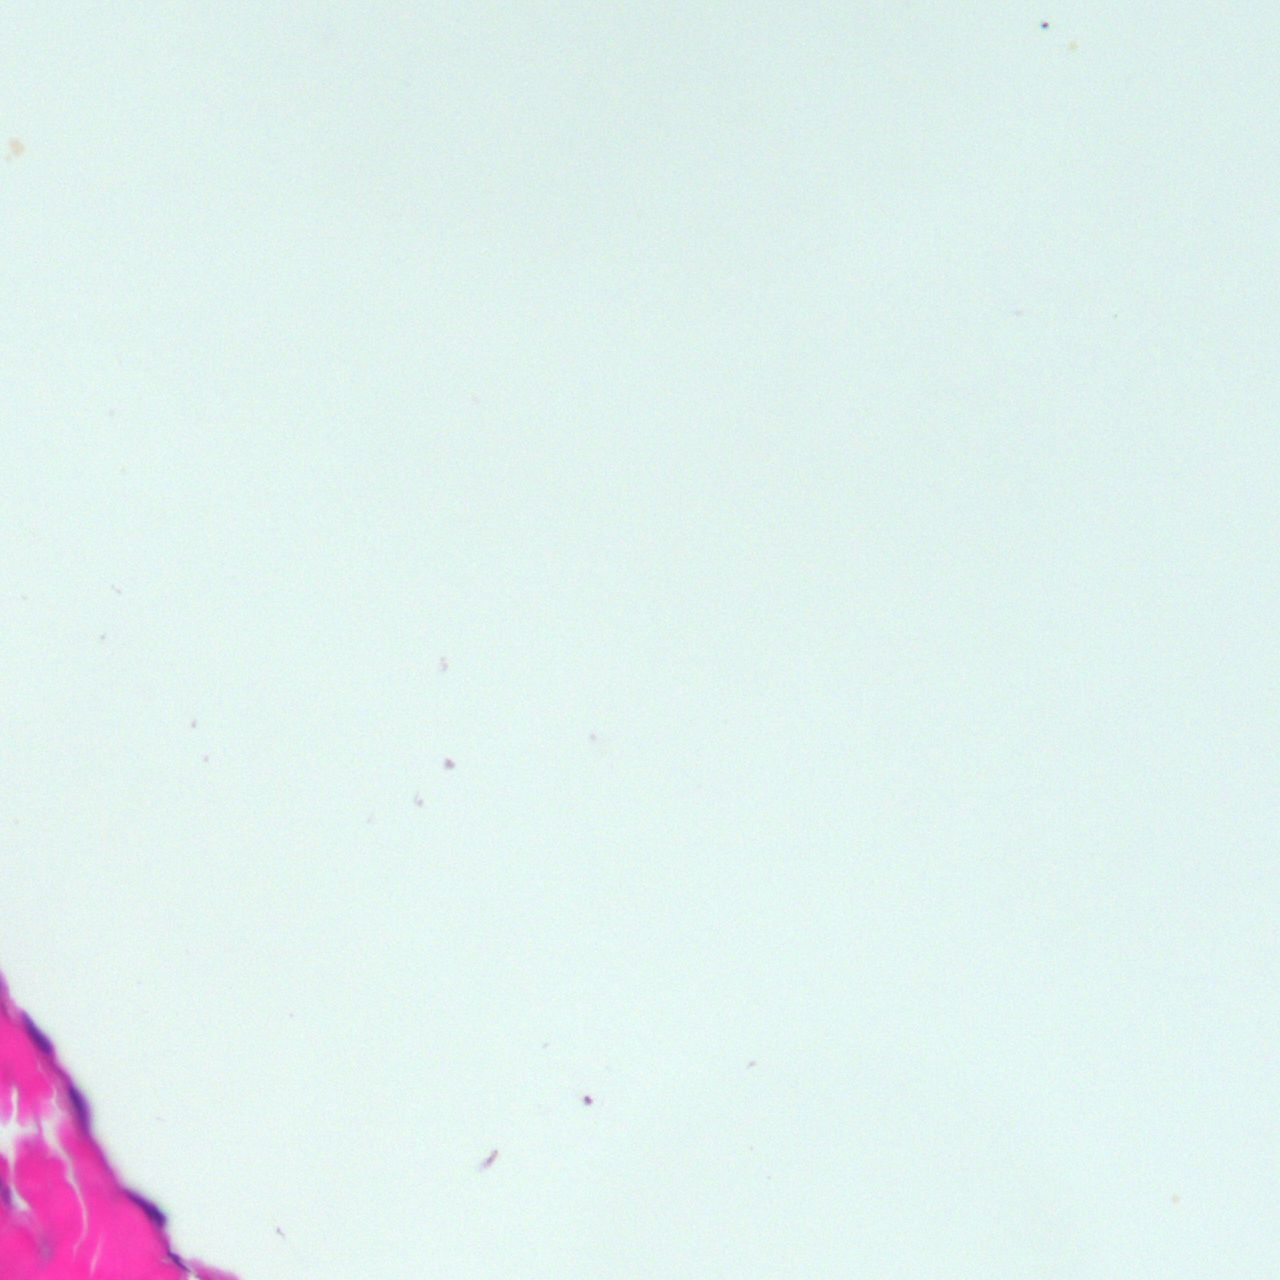nucleus-HE: (120, 1182, 171, 1230), (13, 1009, 56, 1056), (62, 1081, 94, 1130), (159, 1245, 190, 1276)
